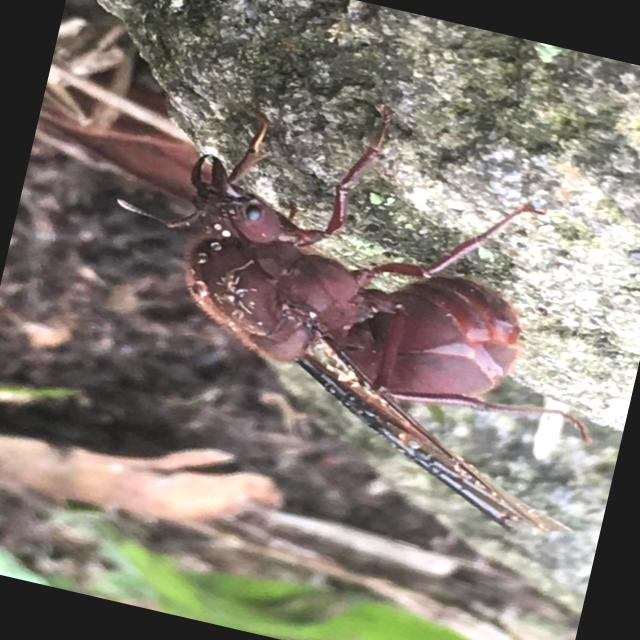Alive-Female-Alate: (61, 48, 640, 546)
